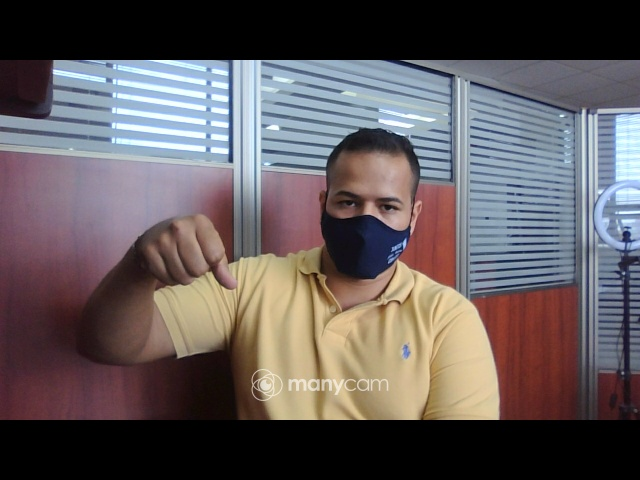Yes: (125, 211, 245, 304)
